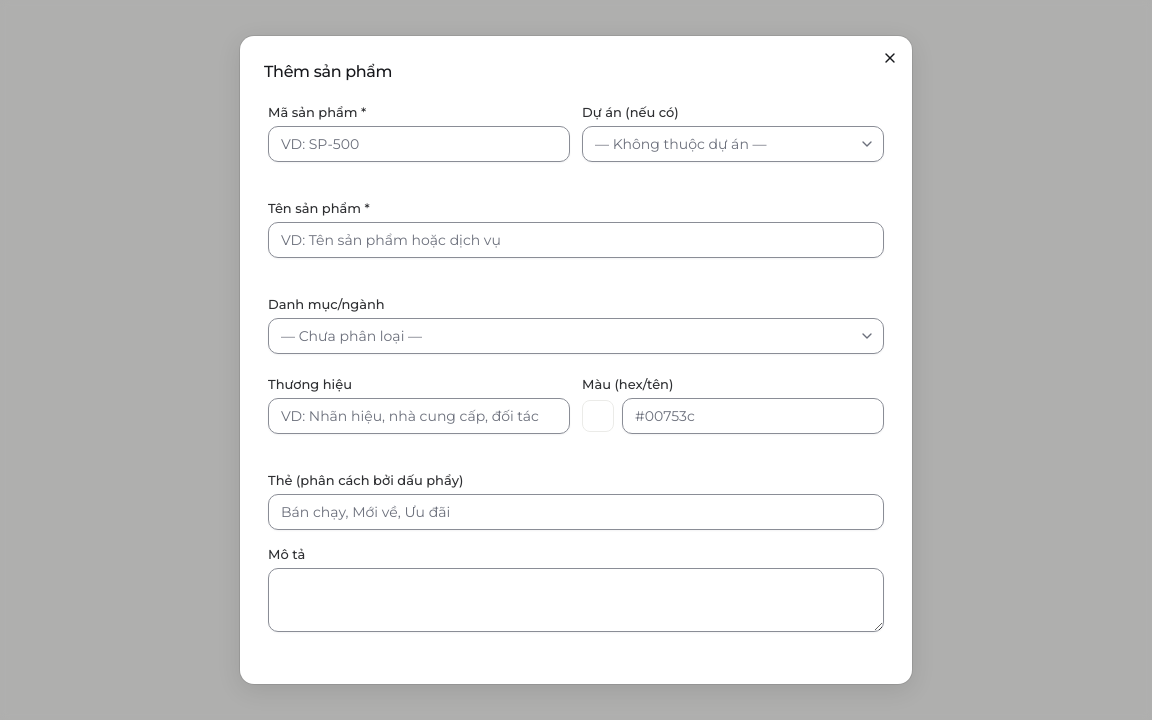
Test: tạo dự án nhanh › dropdown Dự án có lối '+ Tạo dự án mới' dù danh sách rỗng
The image size is (1152, 720).
Click the dropdown labelled "— Không thuộc dự án — ▼".
click(733, 144)  # box [582,126,884,162]
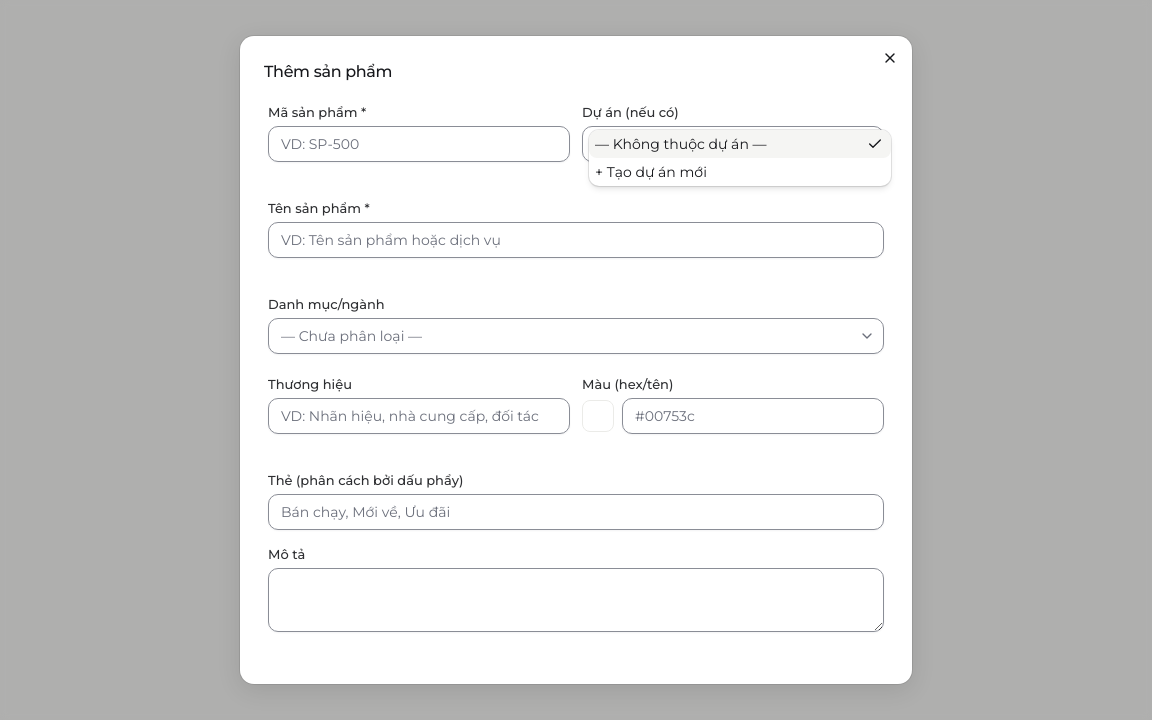
expect the text "+ Tạo dự án mới" is shown: met, box [595,163,707,181]
